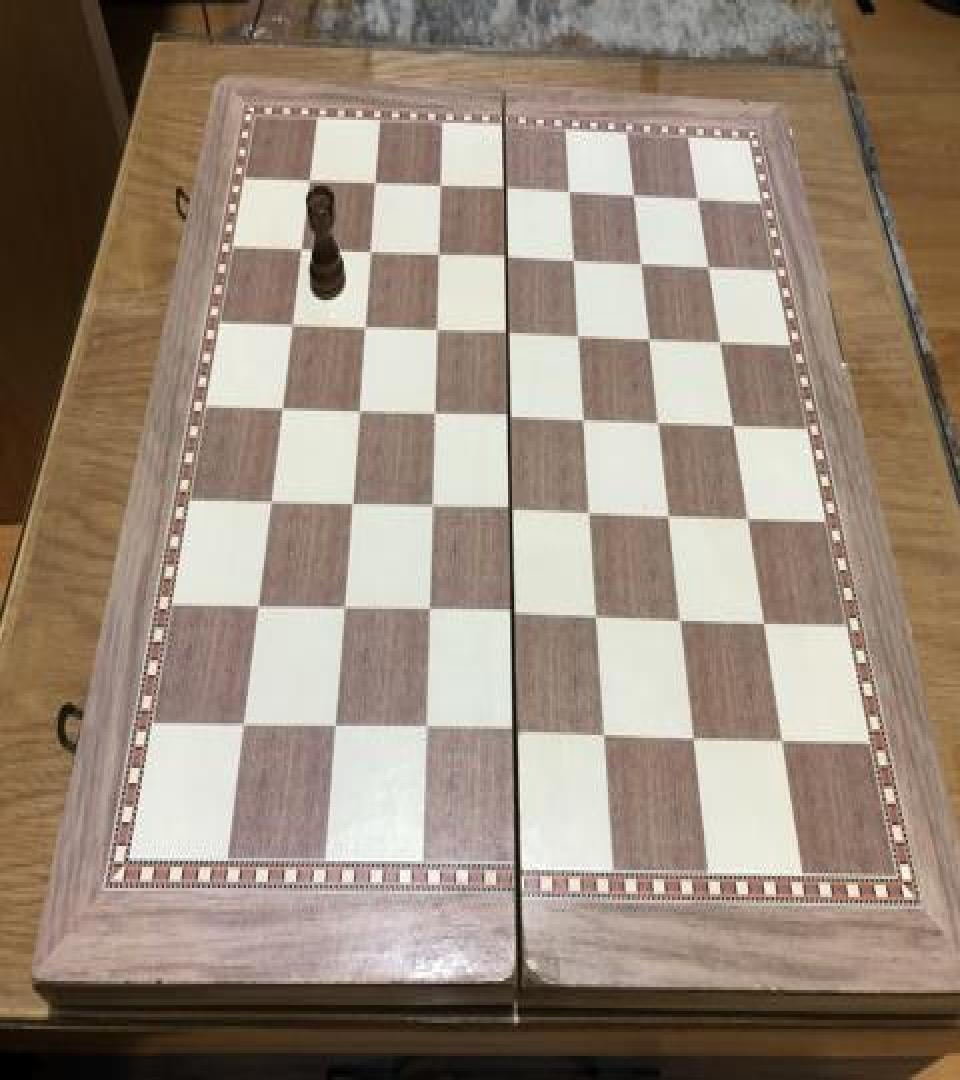xcorner: (419, 595, 443, 632), (594, 718, 618, 755), (688, 180, 712, 216), (624, 177, 648, 213), (560, 174, 584, 210), (496, 170, 520, 206), (431, 166, 455, 202), (365, 164, 389, 200), (299, 160, 323, 196), (699, 249, 723, 285), (632, 246, 656, 282), (564, 243, 588, 279), (497, 238, 521, 274), (429, 236, 453, 272), (360, 232, 384, 268), (291, 230, 315, 266), (710, 324, 734, 360), (640, 321, 664, 357), (569, 318, 593, 354), (498, 315, 522, 351), (426, 312, 450, 348), (354, 309, 378, 345), (282, 306, 306, 342), (723, 408, 747, 444), (649, 405, 673, 441), (574, 402, 598, 438), (500, 399, 524, 435), (424, 396, 448, 432), (348, 393, 372, 429), (272, 390, 296, 426), (737, 501, 761, 537), (659, 498, 683, 534), (580, 495, 604, 531), (501, 494, 525, 530), (421, 490, 445, 526), (341, 488, 365, 524), (260, 484, 284, 520), (753, 606, 777, 642), (670, 603, 694, 639), (587, 600, 611, 636), (503, 597, 527, 633), (333, 592, 357, 628), (248, 590, 272, 626), (770, 723, 794, 759), (683, 720, 707, 756), (505, 716, 529, 752), (415, 714, 439, 750), (325, 711, 349, 747), (233, 708, 257, 744)
